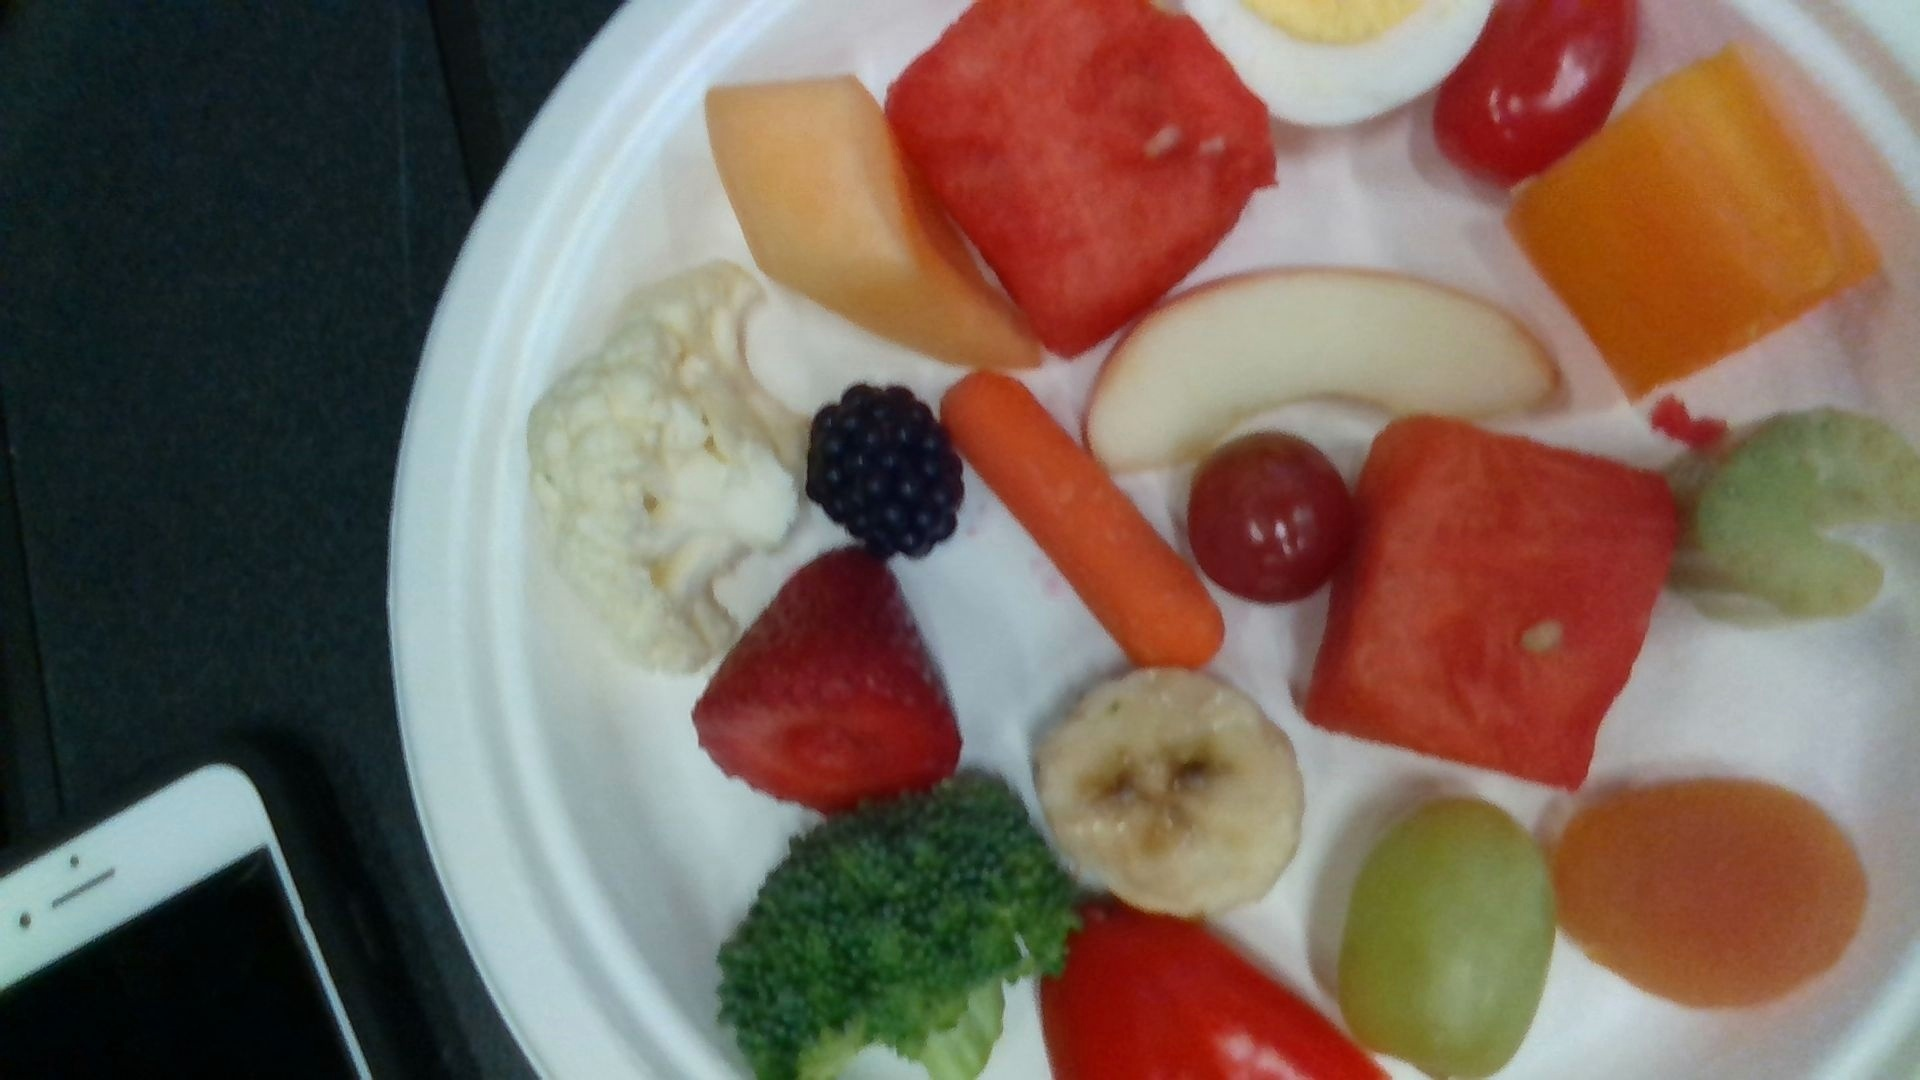apple: (1085, 276, 1549, 456)
apricot: (1553, 785, 1865, 1005)
banana: (1039, 671, 1302, 915)
bell_pepper: (1510, 53, 1874, 396)
blackberry: (808, 388, 963, 550)
broccoli: (724, 778, 1067, 1080)
cantalope: (705, 78, 1034, 367)
carrot: (942, 373, 1222, 665)
cauliflower: (529, 268, 799, 669)
celery: (1697, 411, 1920, 609)
cherry_tomato: (1048, 911, 1385, 1080), (1431, 1, 1636, 183)
egg: (1192, 1, 1497, 125)
grape_green: (1344, 798, 1556, 1080)
grape_purple: (1189, 436, 1349, 603)
melon: (885, 1, 1273, 353), (1307, 419, 1669, 785)
strawberry: (700, 550, 960, 810)
